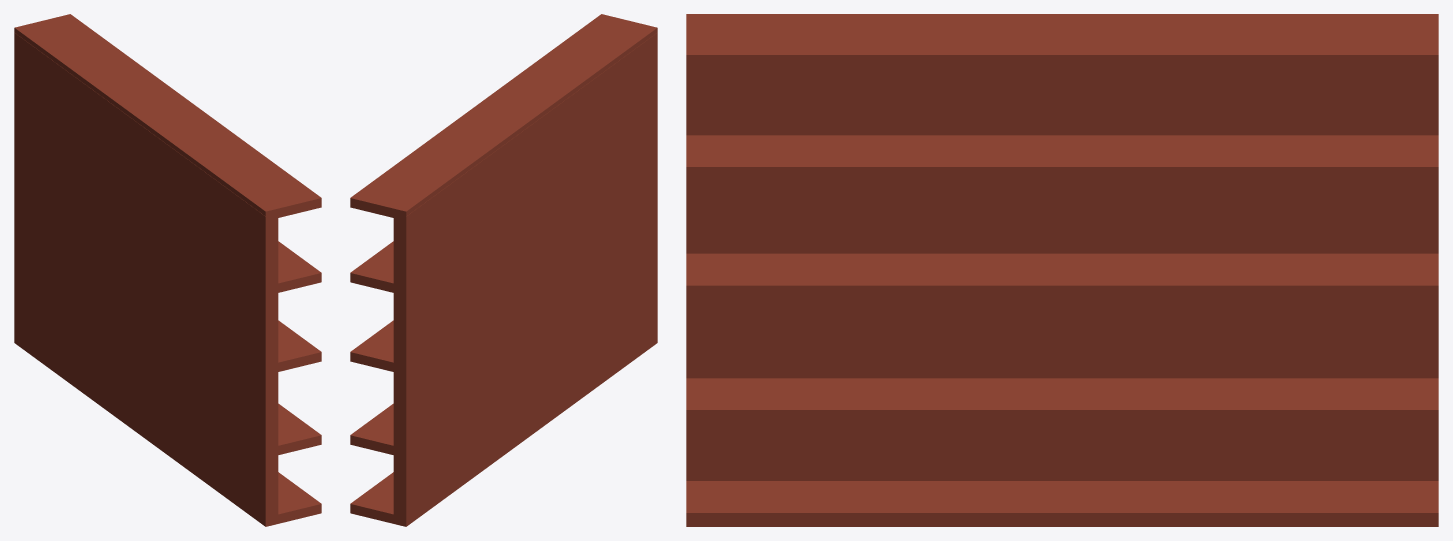
Rendered from BarShelf.fbx.
3 views of the same model, side by side, from view 1: azimuth 30°, elevation 25°; view 2: azimuth 150°, elevation 25°; view 3: azimuth 270°, elevation 25° (orthographic). The views are drawn at different scales.
Visible parts, largest first — view 1: Shelving; view 2: Shelving; view 3: Shelving.
Part boxes in pixels (x1,y1,x2,y2): Shelving: (14, 14, 321, 526); Shelving: (350, 14, 657, 526); Shelving: (686, 14, 1438, 526).
Bounding box in the file's own units: 201 × 1075 × 1553.
